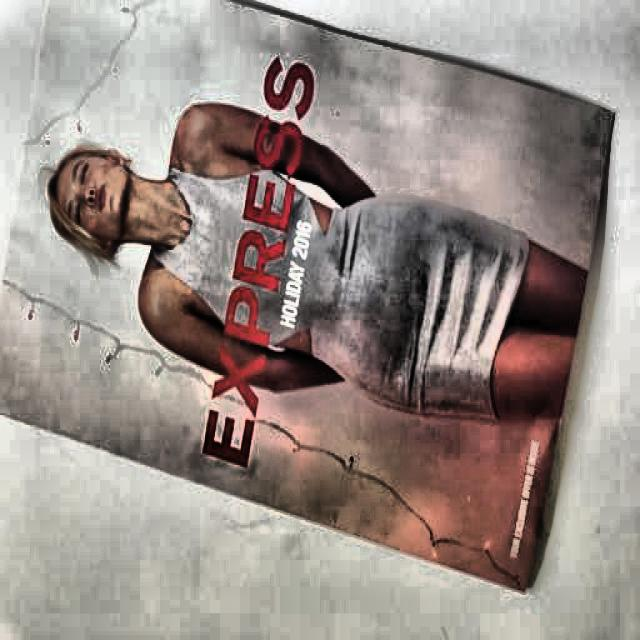paper: (7, 5, 604, 621)
